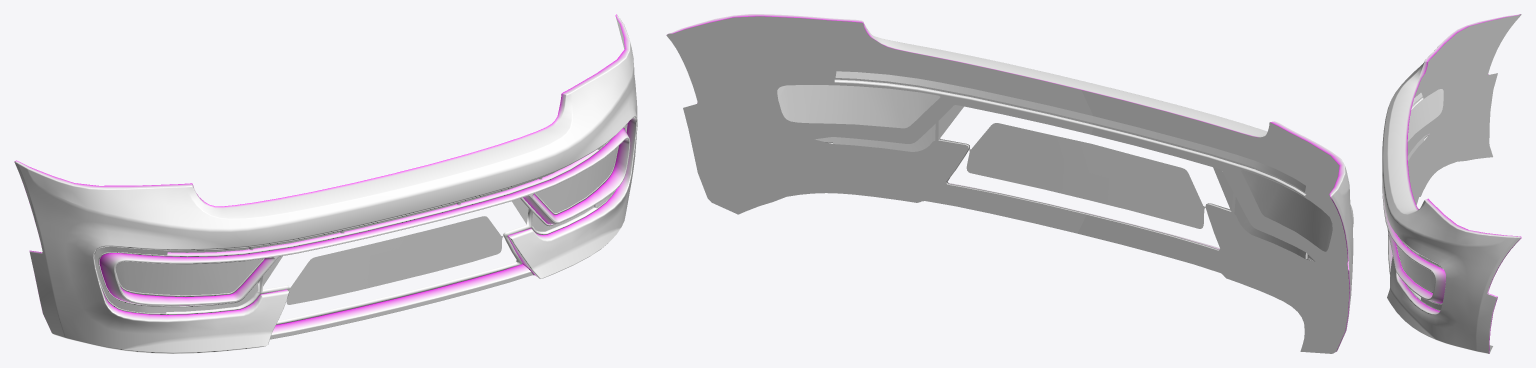
The model's file is Car_Mini_CountrymanJCW_2017_BumperF_SetE_AltC.fbx.
The picture shows the model from 3 angles, left to right: view 1: azimuth 30°, elevation 25°; view 2: azimuth 150°, elevation 25°; view 3: azimuth 270°, elevation 25°; orthographic projection. The views are drawn at different scales.
Visible parts, largest first — view 1: BumperF 6; view 2: BumperF 6; view 3: BumperF 6.
Part boxes in pixels (bbox=[...]): BumperF 6: bbox=[14, 14, 637, 353]; BumperF 6: bbox=[666, 14, 1353, 353]; BumperF 6: bbox=[1382, 14, 1521, 353].
Bounding box in the file's own units: 1.75 × 0.4609 × 0.4606.
